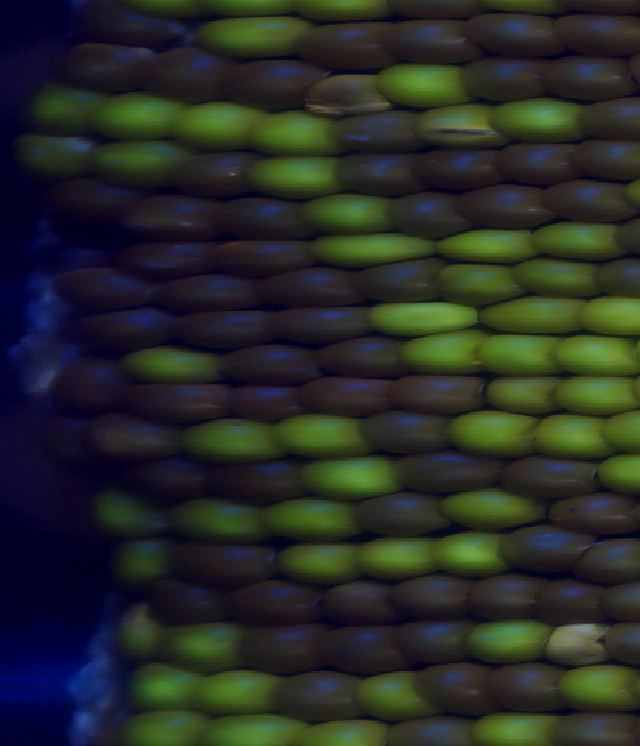fluorescent: (438, 487, 542, 531), (488, 98, 582, 146), (308, 231, 433, 267), (451, 410, 538, 457), (272, 415, 366, 458), (173, 499, 267, 542), (199, 16, 308, 53), (378, 64, 466, 109), (368, 302, 478, 338), (163, 620, 238, 672), (178, 419, 273, 460), (414, 102, 503, 144), (250, 112, 333, 157), (97, 92, 178, 138), (478, 297, 584, 332), (123, 347, 220, 385), (180, 103, 260, 149), (296, 193, 388, 233), (511, 258, 596, 301), (474, 333, 559, 376), (260, 500, 356, 538), (303, 457, 394, 497), (464, 619, 546, 663), (358, 536, 438, 581), (400, 332, 485, 374), (556, 335, 639, 377), (32, 81, 97, 134), (535, 220, 618, 261), (561, 665, 633, 712), (535, 412, 606, 459), (554, 373, 637, 413), (197, 670, 276, 712), (248, 156, 333, 195), (434, 261, 509, 305), (433, 232, 535, 264), (438, 527, 503, 577), (207, 712, 302, 746), (358, 672, 425, 720), (126, 664, 200, 707), (276, 543, 356, 582), (122, 712, 208, 746), (487, 377, 557, 416), (298, 715, 386, 746), (95, 492, 165, 530), (470, 715, 551, 746), (579, 297, 640, 337), (116, 607, 160, 662), (118, 538, 171, 582), (599, 453, 640, 496), (604, 410, 640, 451)
nonfluorescent: (228, 60, 322, 115), (53, 177, 137, 237), (414, 657, 491, 720), (231, 620, 324, 672), (63, 42, 153, 95), (272, 669, 358, 724), (394, 447, 501, 491), (148, 47, 228, 105), (172, 542, 278, 585), (293, 23, 386, 72), (499, 523, 586, 575), (48, 359, 124, 418), (350, 493, 445, 540), (261, 267, 360, 312), (211, 234, 314, 277), (82, 303, 178, 349), (355, 410, 451, 455), (223, 581, 323, 624), (472, 10, 560, 58), (501, 456, 604, 497), (122, 387, 233, 425), (125, 197, 218, 242), (154, 271, 255, 312), (217, 342, 318, 383), (538, 180, 628, 226), (164, 153, 254, 199), (323, 627, 405, 677), (87, 415, 178, 460), (125, 457, 212, 504), (218, 193, 304, 240), (216, 459, 305, 504), (304, 375, 394, 419), (50, 269, 151, 308), (388, 194, 468, 243), (414, 149, 503, 193), (494, 660, 561, 718), (549, 493, 635, 538), (268, 305, 371, 342), (386, 20, 475, 62), (542, 60, 628, 102), (558, 12, 640, 56), (391, 376, 491, 412), (178, 310, 265, 351), (318, 338, 405, 379), (338, 146, 413, 193), (468, 572, 543, 619), (392, 576, 469, 621), (321, 580, 390, 630), (465, 58, 543, 102), (356, 261, 444, 300), (150, 577, 223, 624), (461, 186, 544, 226), (498, 140, 576, 182), (308, 73, 384, 116), (334, 107, 417, 146), (122, 239, 203, 277), (399, 620, 470, 661), (550, 712, 635, 746), (230, 383, 304, 422), (573, 137, 640, 179), (539, 582, 605, 624), (577, 538, 640, 580), (581, 99, 640, 137), (547, 623, 600, 665), (388, 719, 465, 746), (594, 257, 640, 301), (601, 577, 640, 624), (602, 624, 640, 667)
